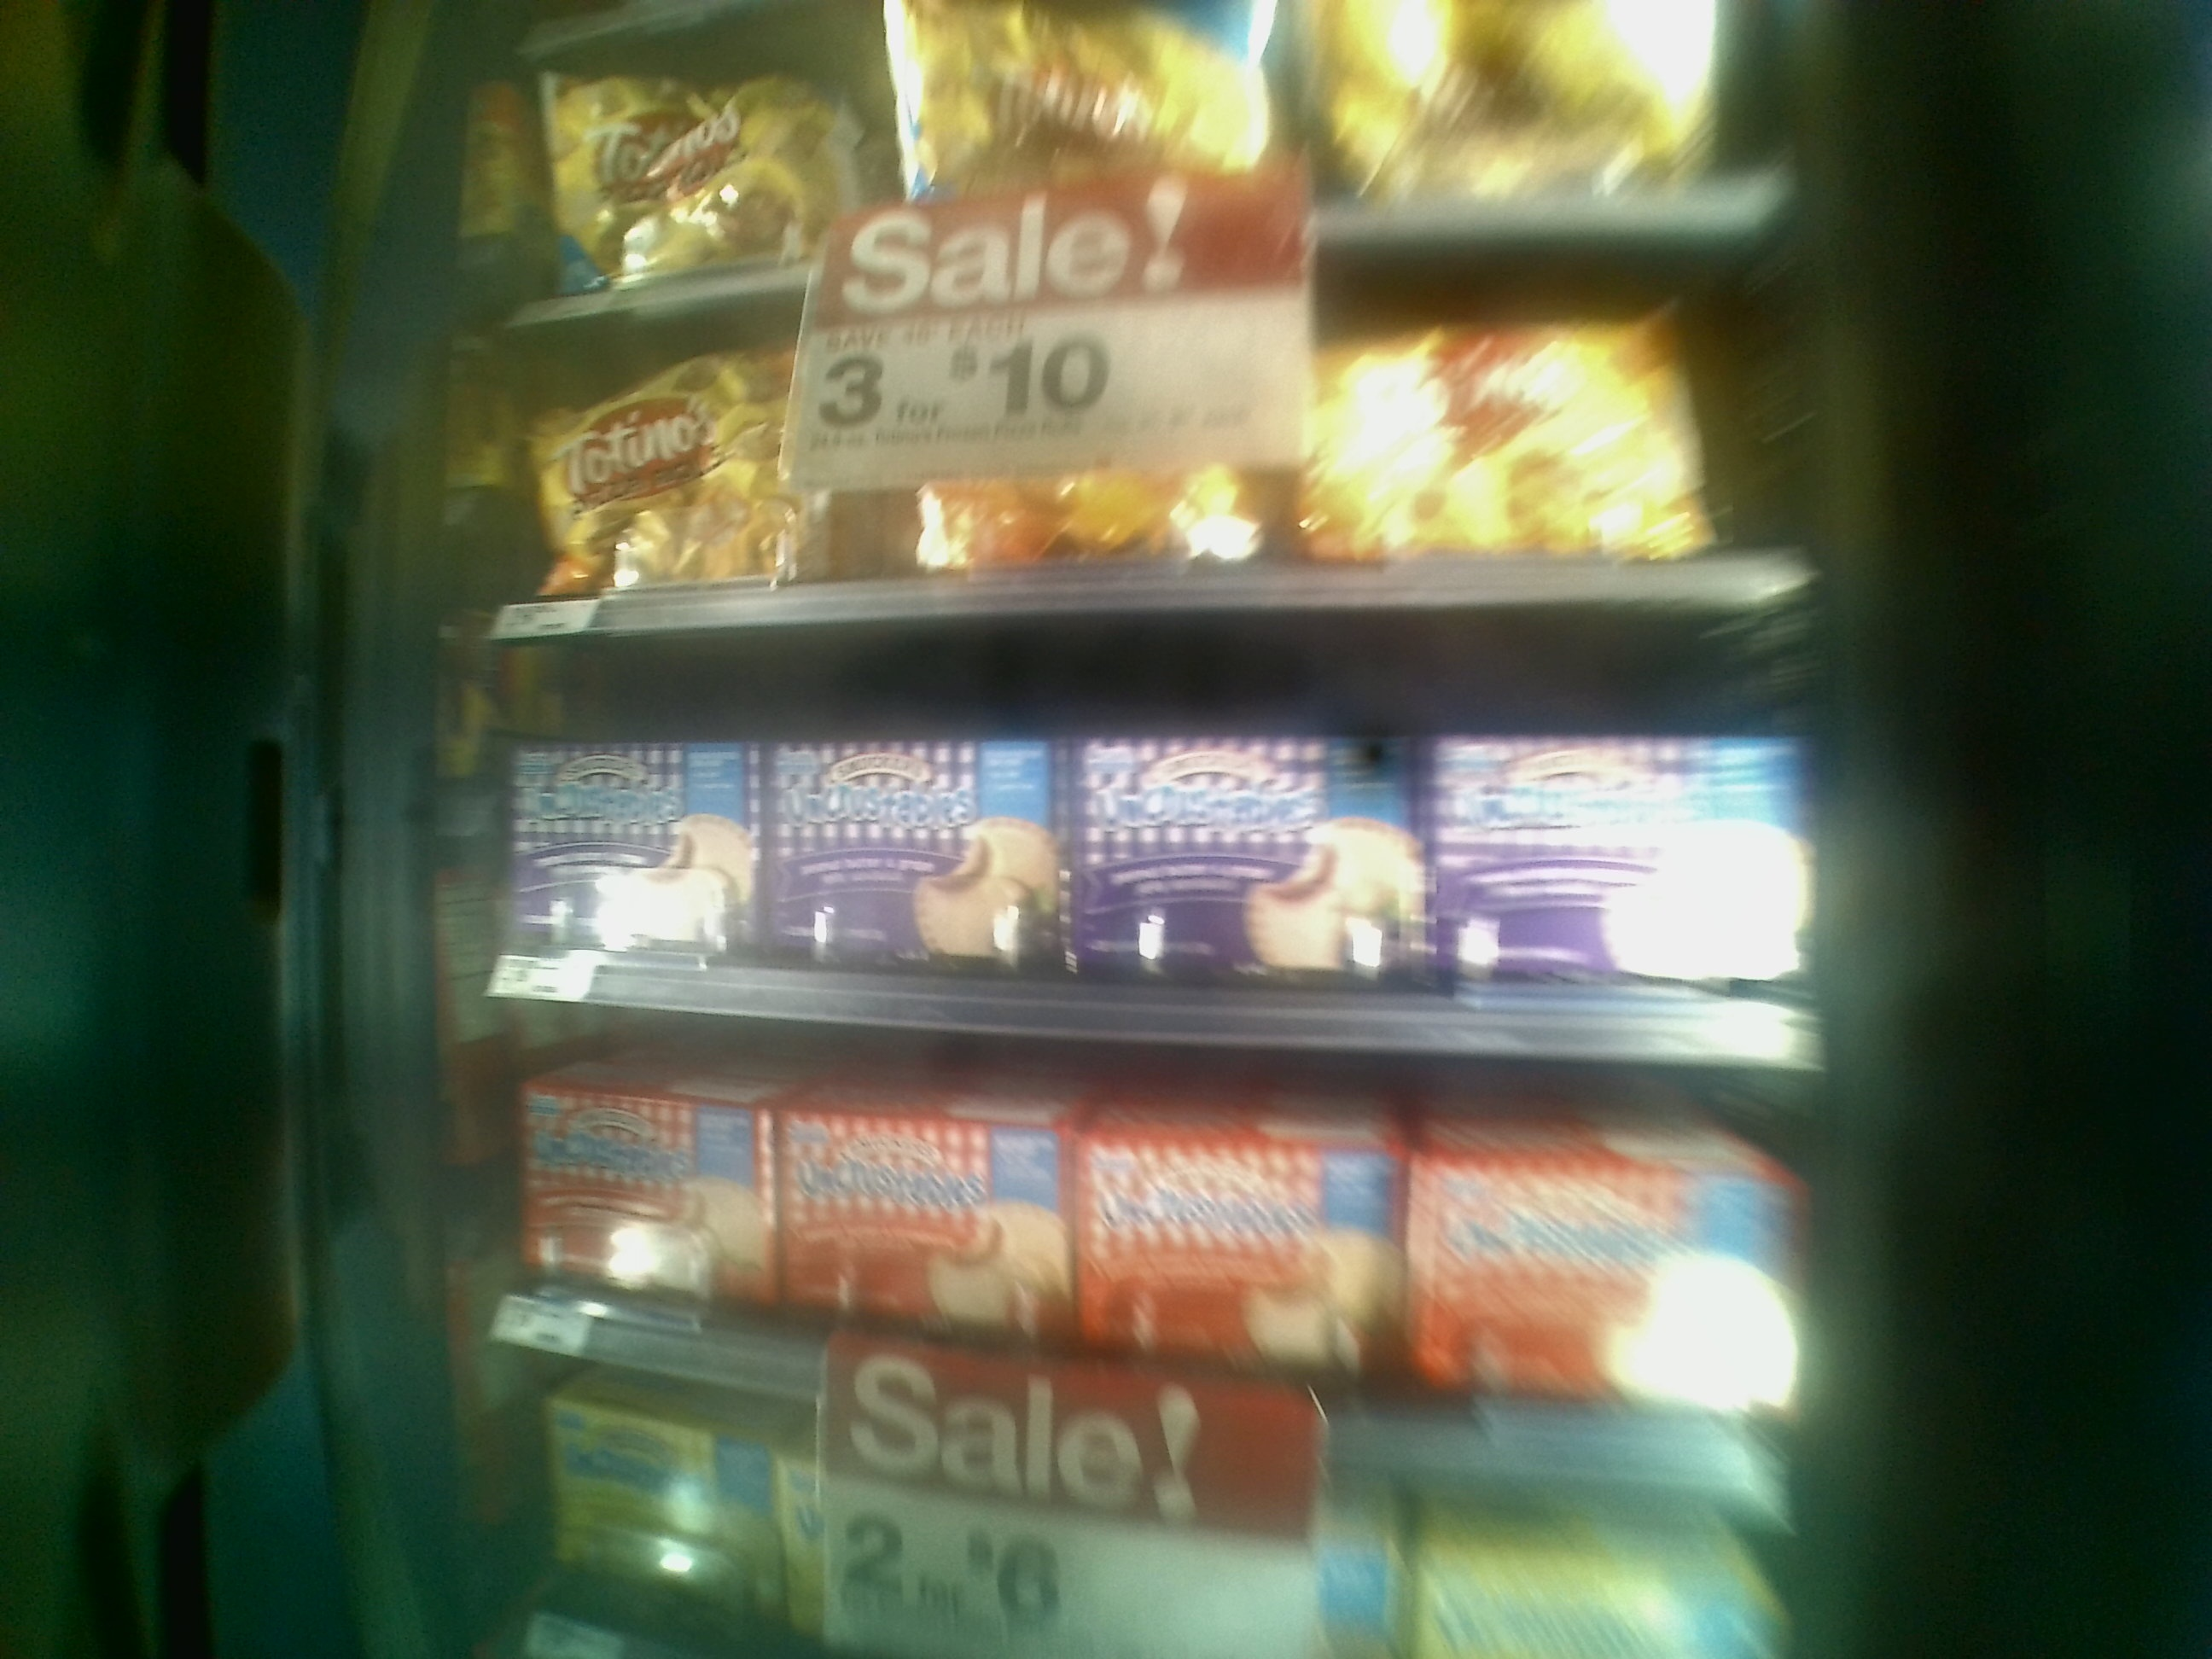shelf: (474, 629, 1797, 1056)
